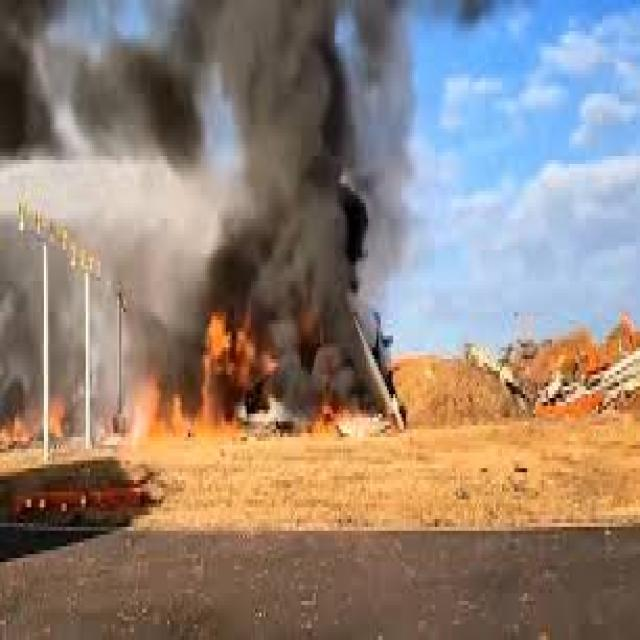explosion: (102, 0, 445, 503)
